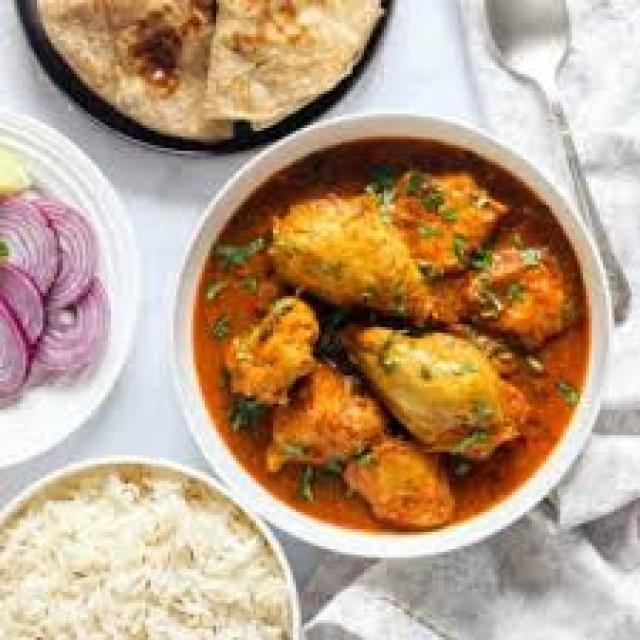Frango: (176, 139, 592, 532)
